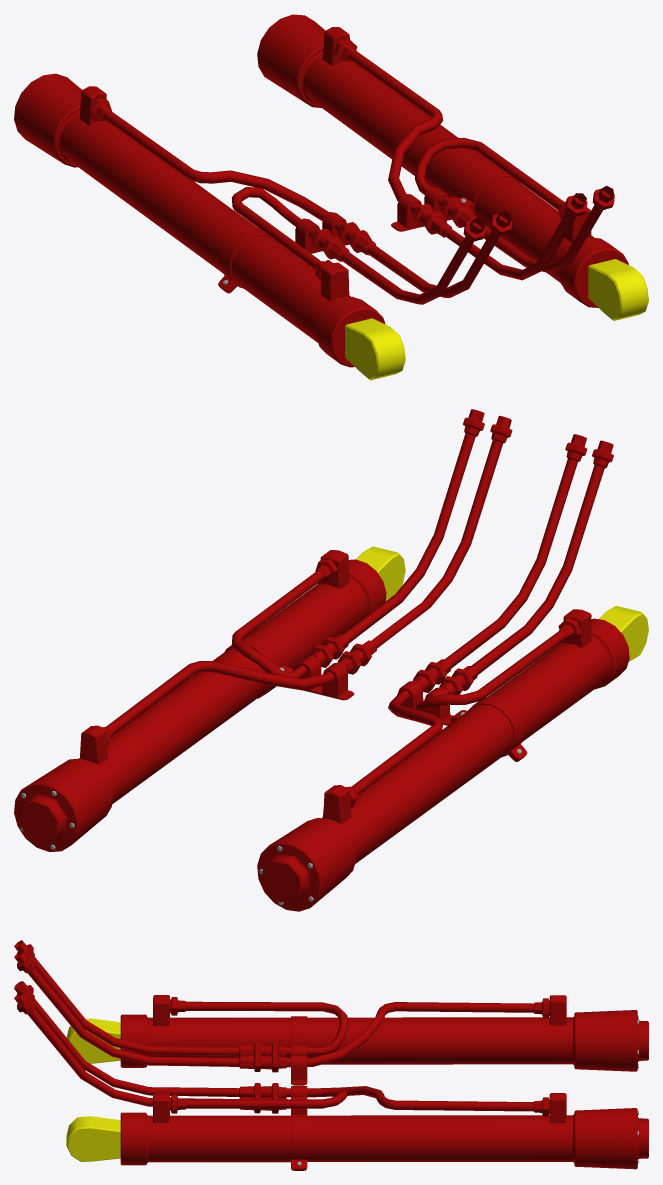
The model's file is ExcavatorMachine_HydraulicCylinder03_01a_snaps005.fbx.
The picture shows the model from 3 angles, top to bottom: view 1: azimuth 30°, elevation 25°; view 2: azimuth 150°, elevation 25°; view 3: azimuth 270°, elevation 25°; orthographic projection. The views are drawn at different scales.
Parts seen in each view (by area): view 1: ExcavatorMachine_HydraulicCylinder03_01a_snaps005_LOD0; view 2: ExcavatorMachine_HydraulicCylinder03_01a_snaps005_LOD0; view 3: ExcavatorMachine_HydraulicCylinder03_01a_snaps005_LOD0.
Boxes of the visible parts, x1,y1,x2,y2 form: ExcavatorMachine_HydraulicCylinder03_01a_snaps005_LOD0: (14, 14, 648, 380); ExcavatorMachine_HydraulicCylinder03_01a_snaps005_LOD0: (14, 409, 648, 911); ExcavatorMachine_HydraulicCylinder03_01a_snaps005_LOD0: (14, 940, 648, 1170).
Size of what is drawn, in the model's own units: 107 by 60.78 by 232.
